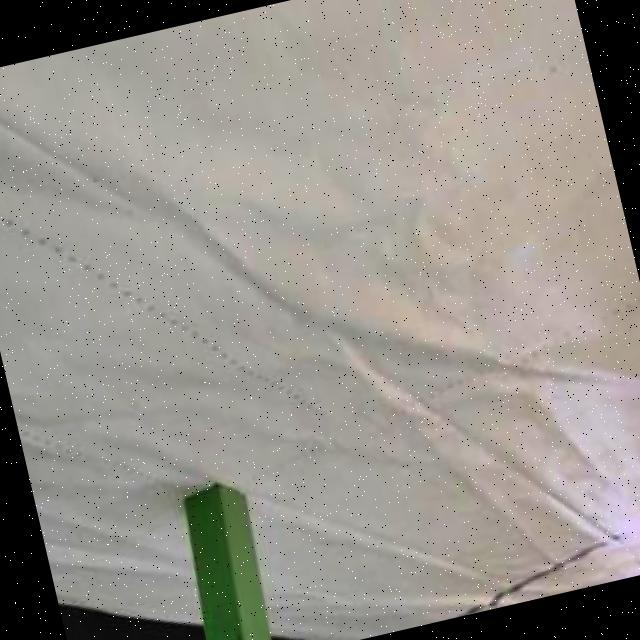greenbox: (168, 475, 278, 640)
